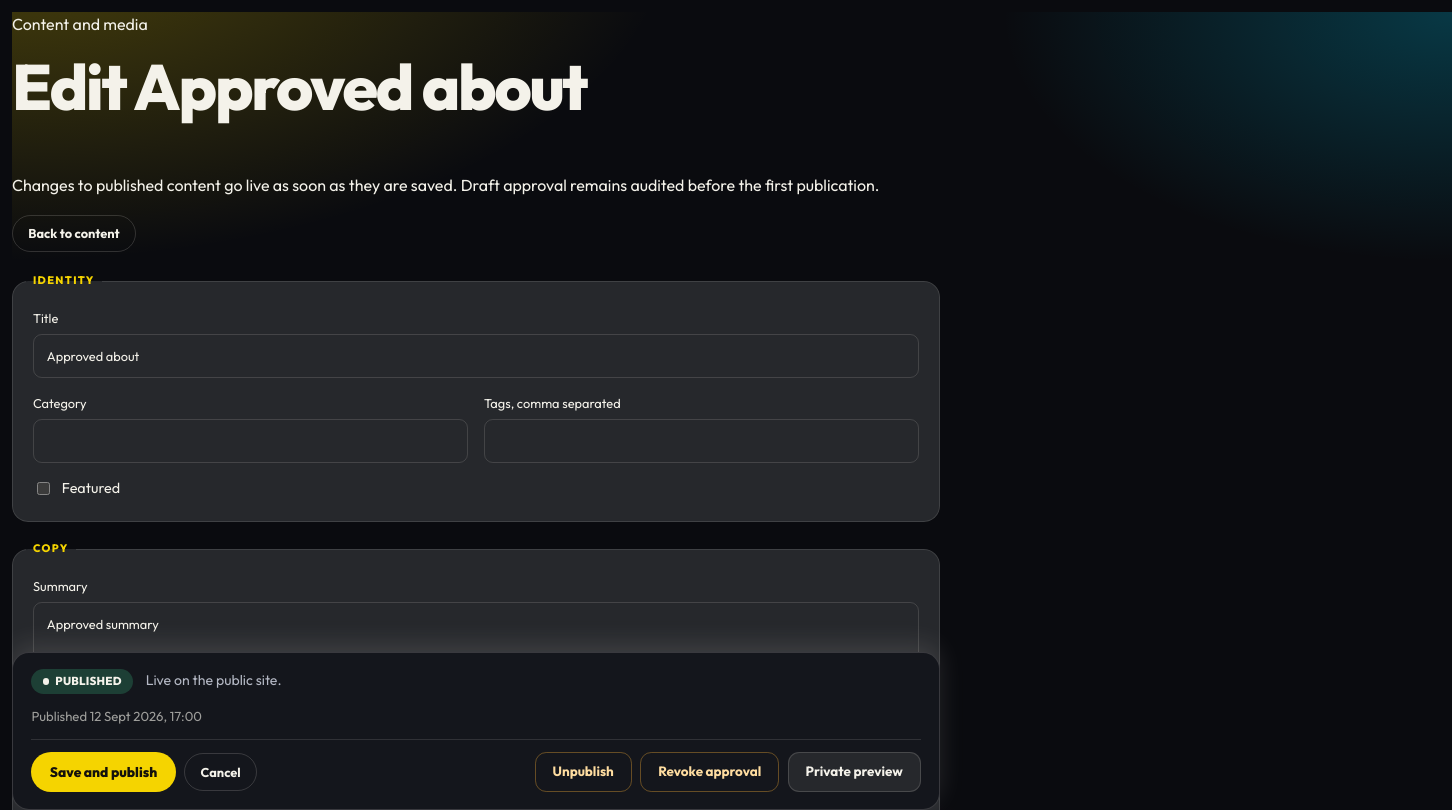
it: keeps published content live and refreshes the public site on save
Replace the text in the field labelled "Title" with "Live update": (476, 356) [33,334,919,378]
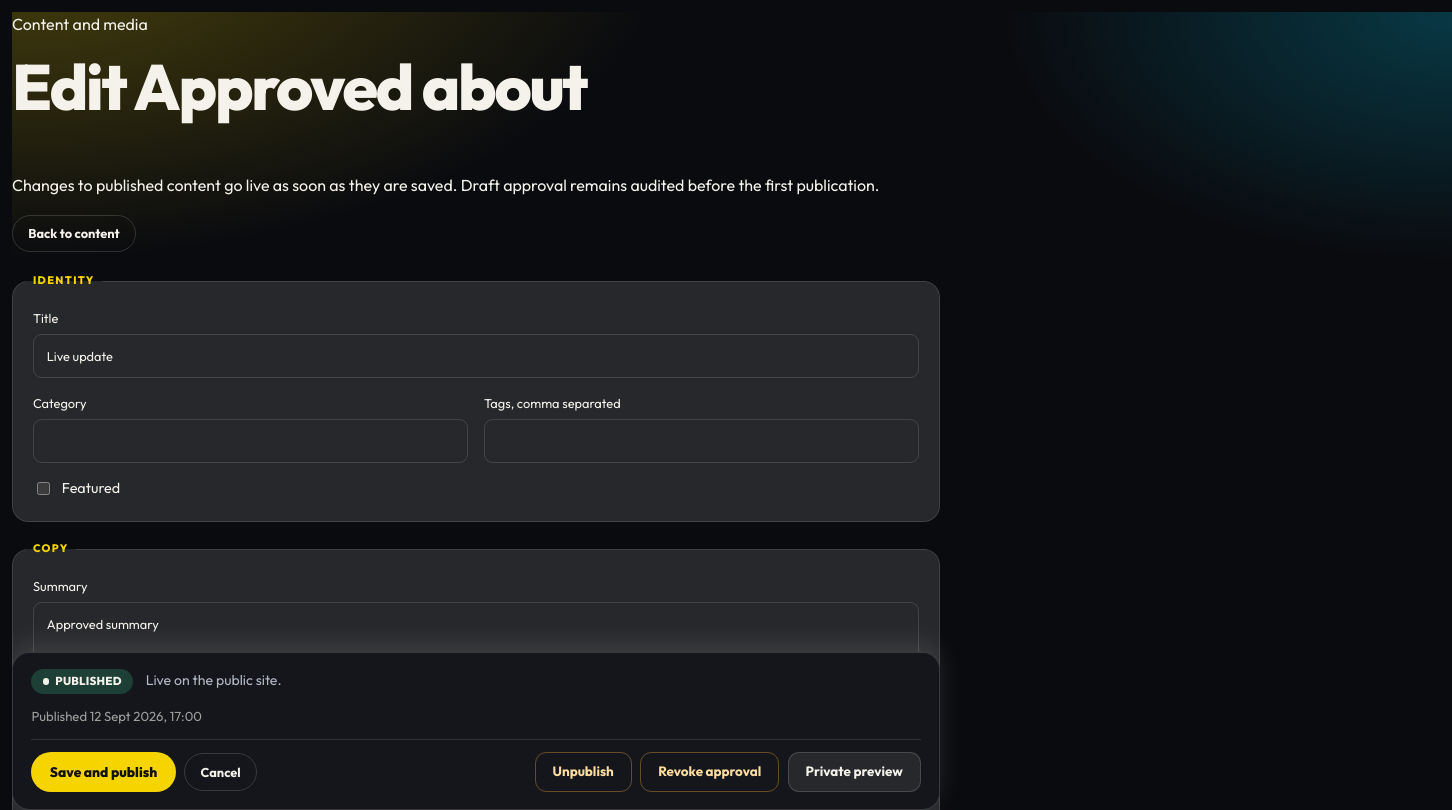
Click the button "Save and publish": (104, 772) [31,752,176,792]
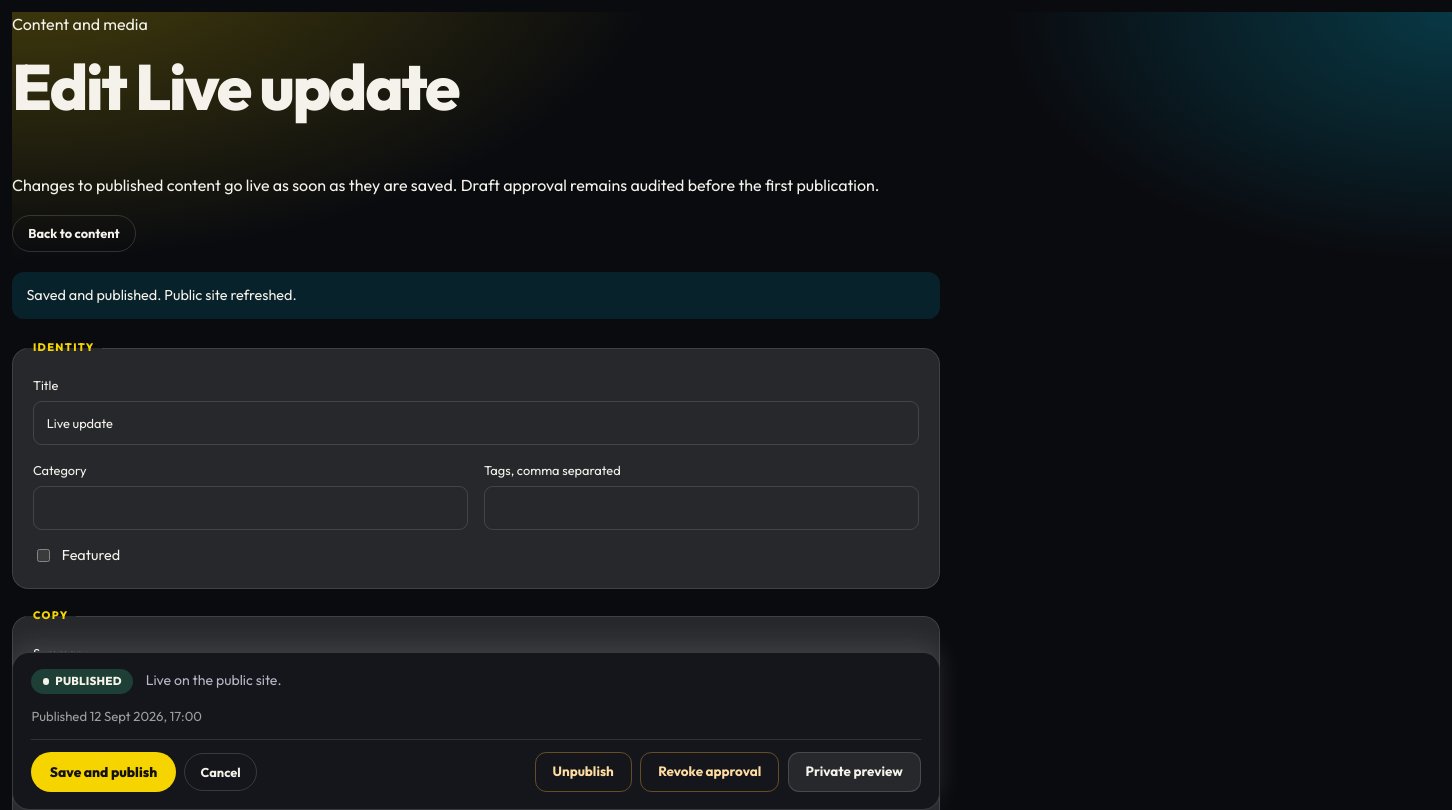
Check: the text "Saved and published. Public site refreshed." is shown, box [12,272,940,319]
